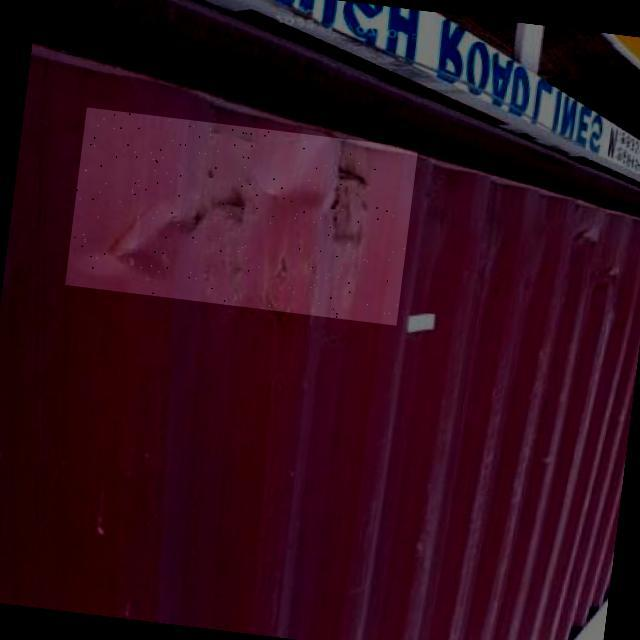Dent: (65, 107, 418, 325)
